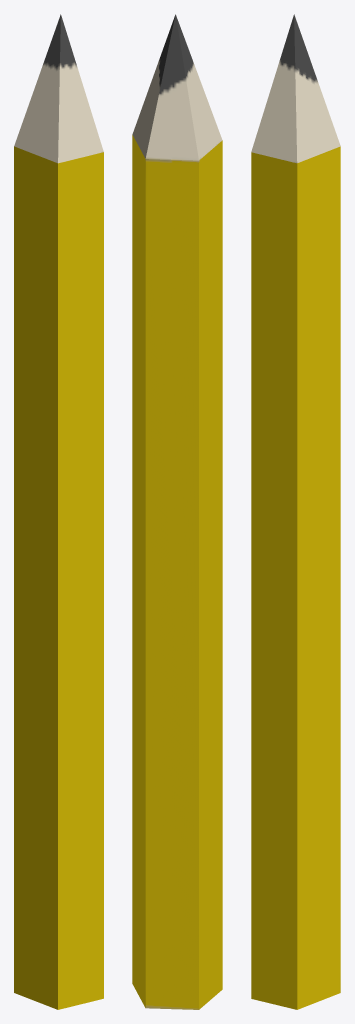
The model's file is Pencil.fbx.
3 renders of one model, left to right at view 1: azimuth 30°, elevation 25°; view 2: azimuth 210°, elevation 25°; view 3: azimuth 330°, elevation 25°, orthographic.
Visible parts, largest first — view 1: Cylinder; view 2: Cylinder; view 3: Cylinder.
Boxes of the visible parts, x1=… form: Cylinder: x1=14, y1=14, x2=103, y2=1009; Cylinder: x1=132, y1=14, x2=222, y2=1009; Cylinder: x1=251, y1=14, x2=340, y2=1009.
Bounding box in the file's own units: 40.41 × 491 × 39.61.
